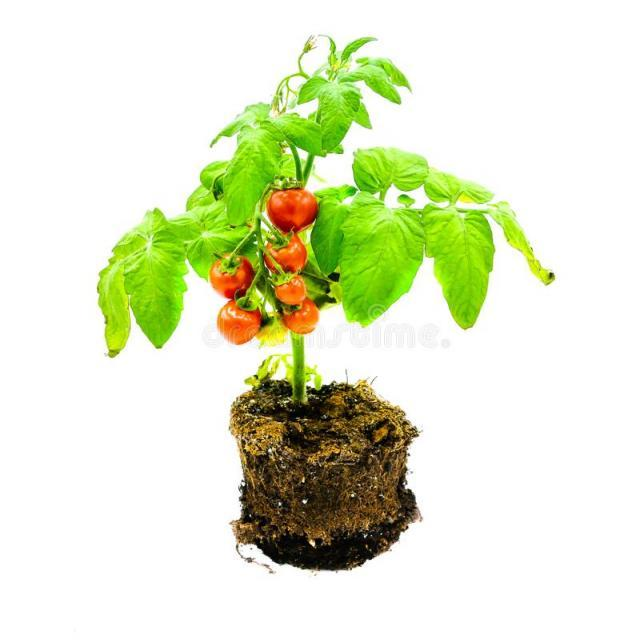tomato: (98, 37, 555, 404), (297, 377, 306, 380)
